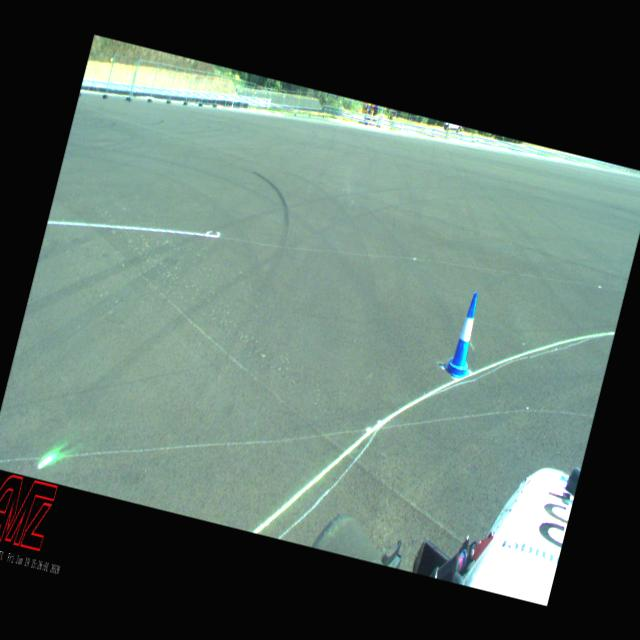blue_cone: (442, 288, 489, 381)
